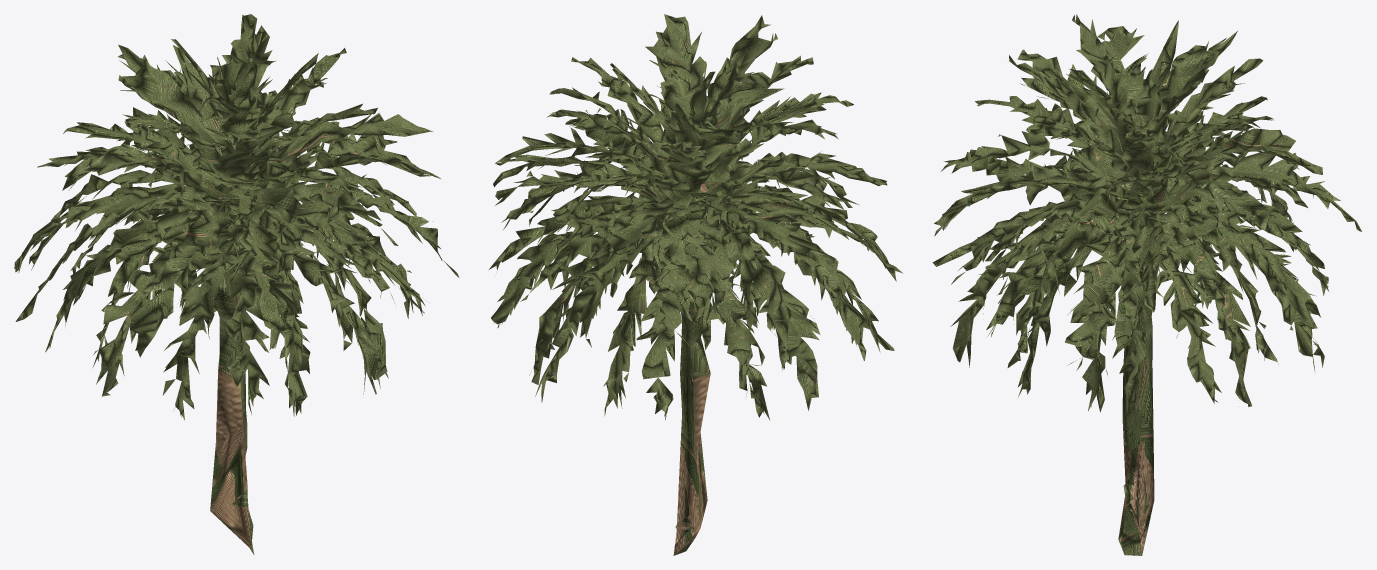
The model's file is palm.glb.
3 renders of one model, left to right at view 1: azimuth 30°, elevation 25°; view 2: azimuth 150°, elevation 25°; view 3: azimuth 270°, elevation 25°, orthographic.
Size of the model in its own units: 1.46 by 1.87 by 1.42.
1 material, 1 textured.
